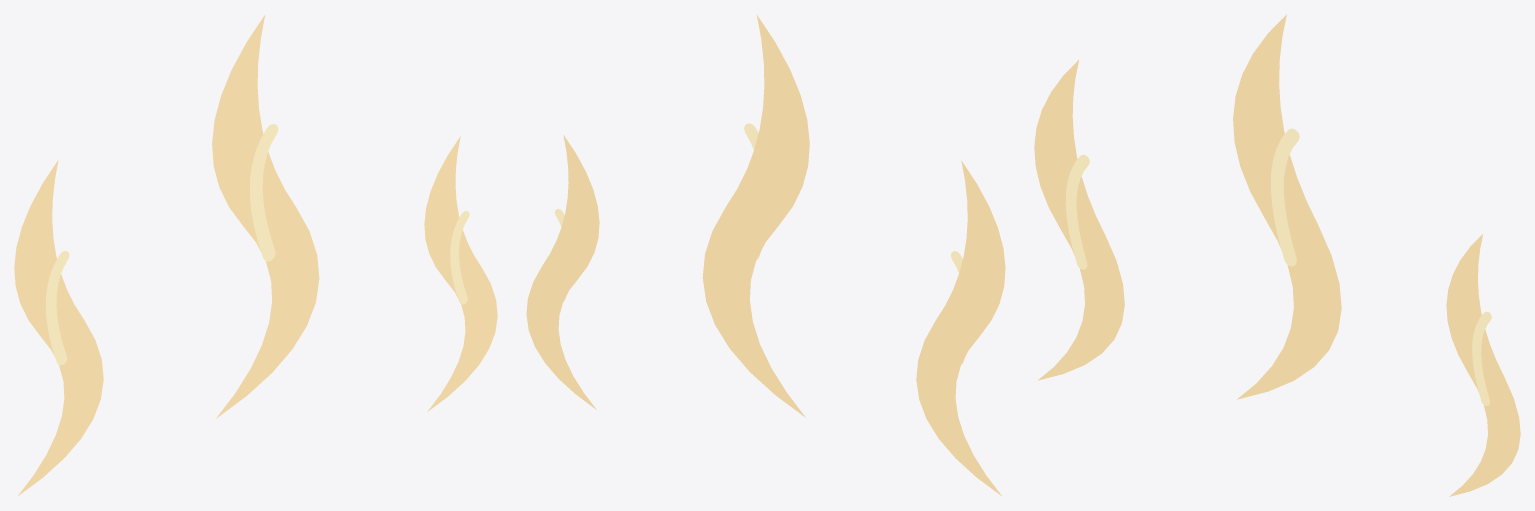
The model's file is abur.glb.
3 views of the same model, side by side, from view 1: azimuth 30°, elevation 25°; view 2: azimuth 150°, elevation 25°; view 3: azimuth 330°, elevation 25° (orthographic).
Visible parts, largest first — view 1: Abur de pâine · abur; view 2: Abur de pâine · abur; view 3: Abur de pâine · abur.
Part boxes in pixels (x1=…): Abur de pâine · abur: x1=14, y1=14, x2=497, y2=496; Abur de pâine · abur: x1=526, y1=14, x2=1005, y2=495; Abur de pâine · abur: x1=1034, y1=14, x2=1520, y2=496.
Size of the model in its own units: 1.26 by 1.09 by 0.0082.
